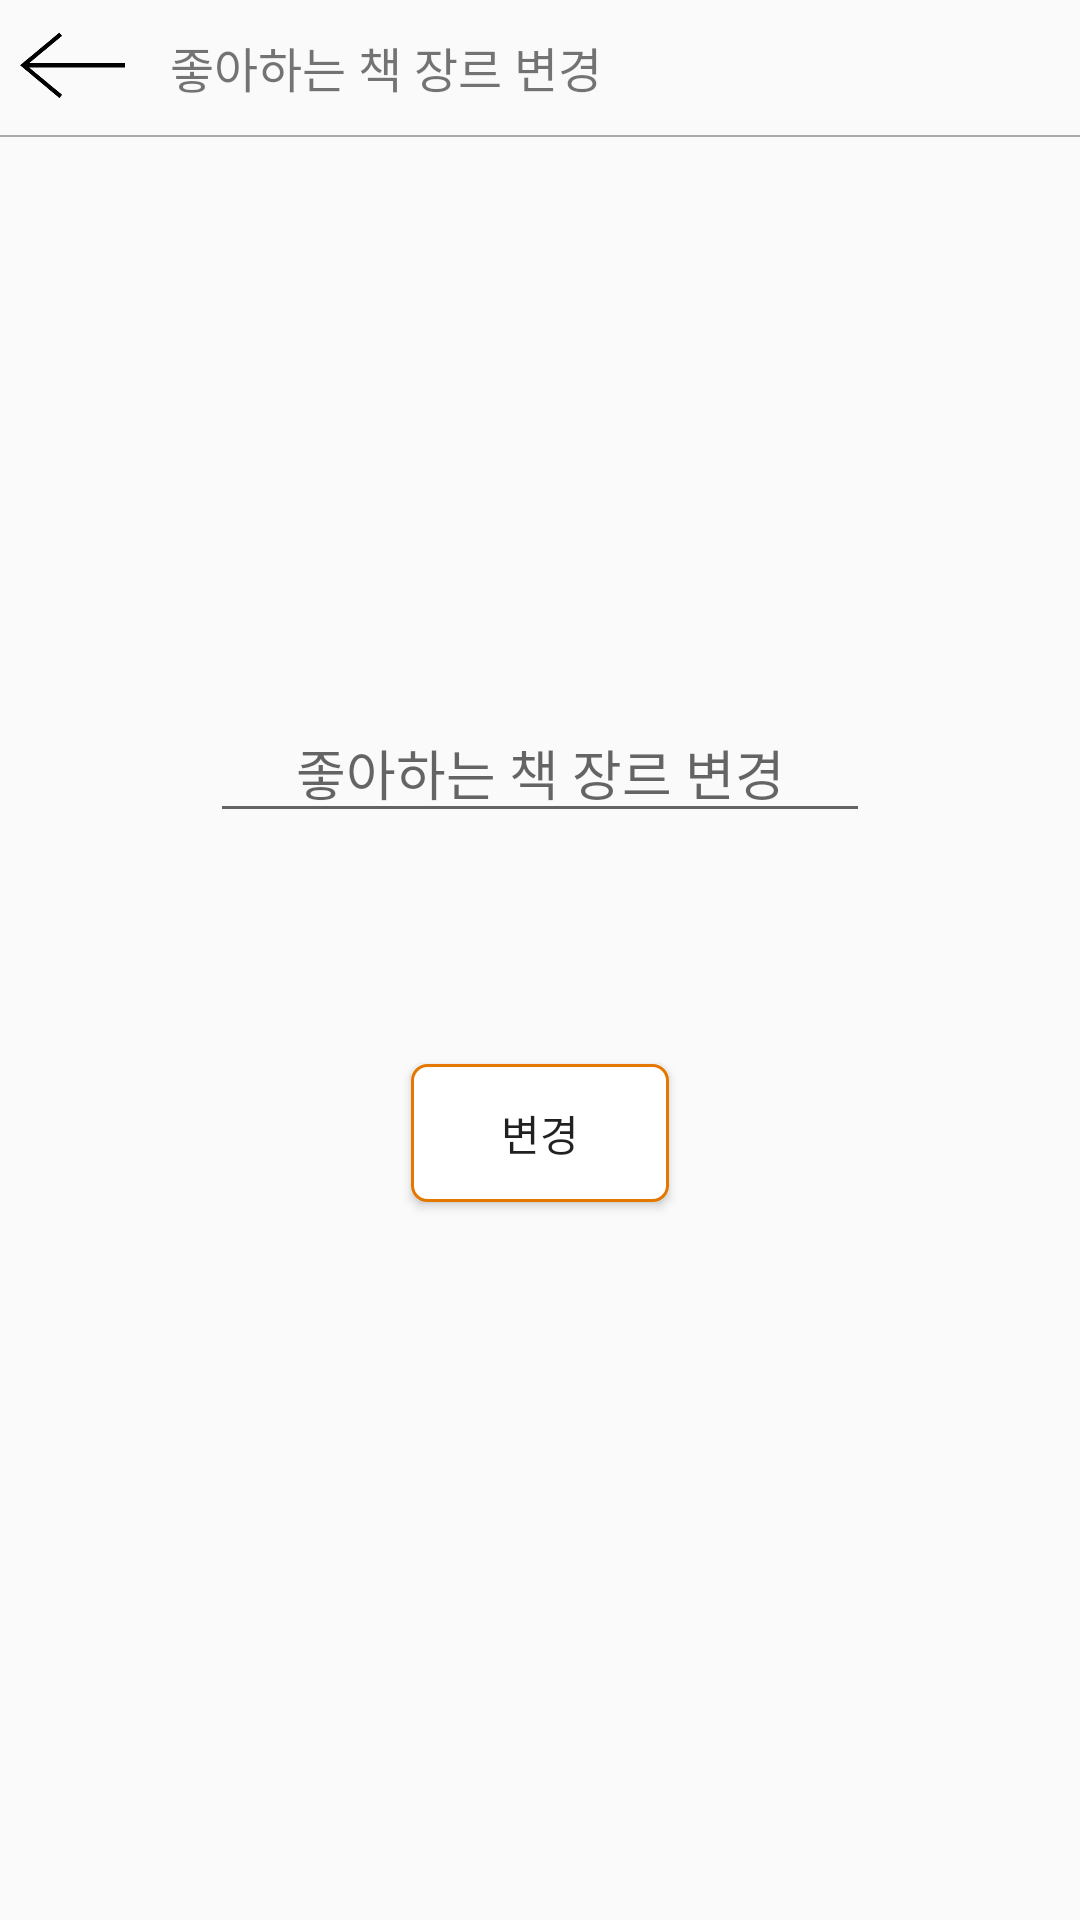

Icon bounding boxes for this 1080×1920 phone screenshot, format [left=x1, top=y1, right=x2, bottom=y2]:
back: [left=20, top=32, right=125, bottom=98]
